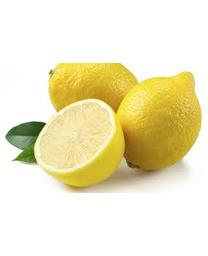lemon: (115, 71, 202, 173), (34, 98, 125, 188), (48, 65, 139, 112)
